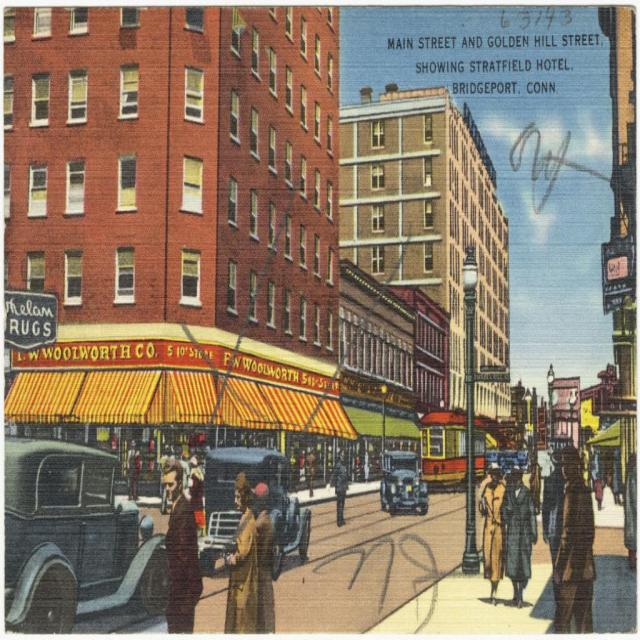car: (381, 453, 426, 515)
